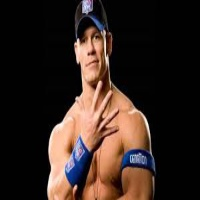ring: (99, 104, 118, 132)
